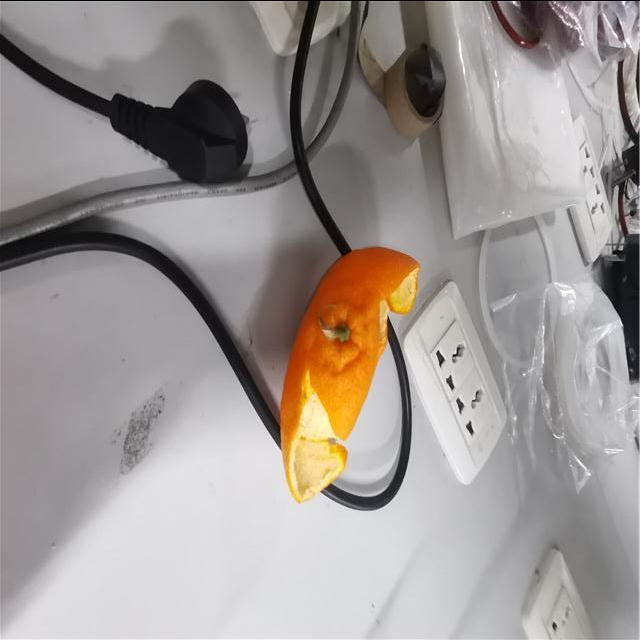orange peel: (251, 245, 428, 508)
